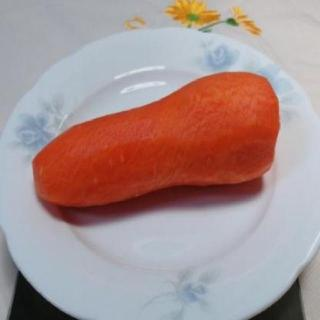carrot: (30, 62, 283, 210)
